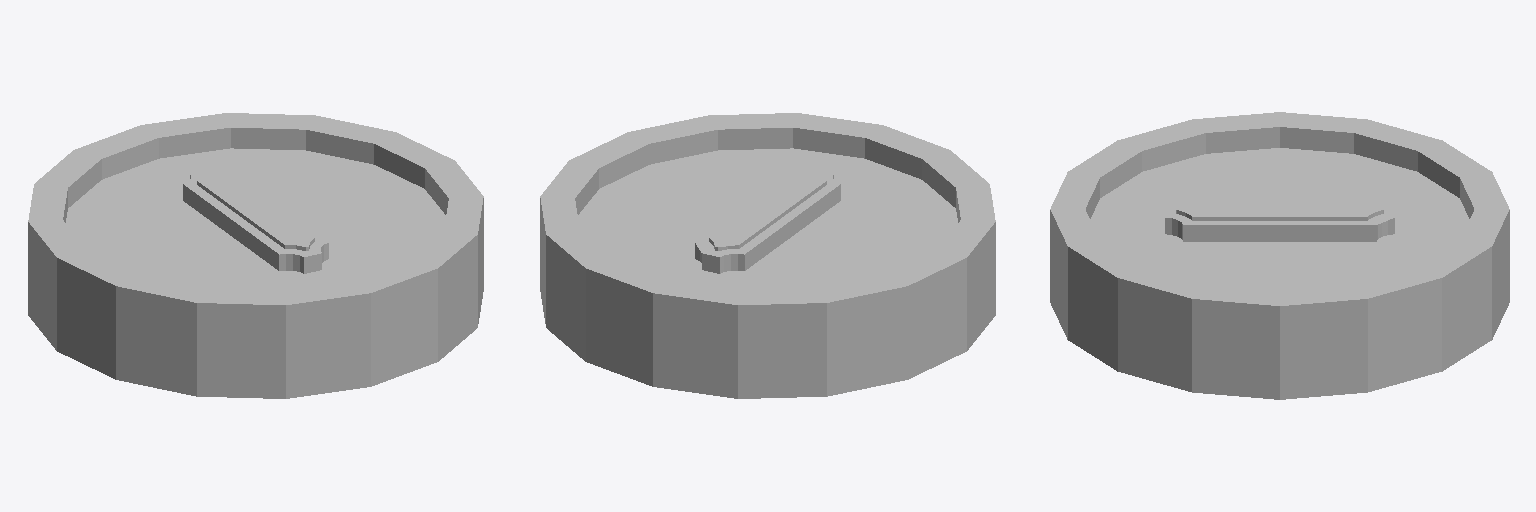
File: Coin_low_poly.obj
The picture shows the model from 3 angles: view 1: azimuth 30°, elevation 25°; view 2: azimuth 150°, elevation 25°; view 3: azimuth 270°, elevation 25°; orthographic projection.
Visible parts, largest first — view 1: Coin_Circle, cutout_Cube.001; view 2: Coin_Circle, cutout_Cube.001; view 3: Coin_Circle, cutout_Cube.001.
Part boxes in pixels (left/top/right/bottom): Coin_Circle: left=28, top=113, right=483, bottom=398; cutout_Cube.001: left=183, top=169, right=328, bottom=273; Coin_Circle: left=540, top=113, right=995, bottom=398; cutout_Cube.001: left=695, top=169, right=840, bottom=273; Coin_Circle: left=1050, top=112, right=1509, bottom=399; cutout_Cube.001: left=1165, top=201, right=1394, bottom=241.
Size of the model in its own units: 2 by 0.45 by 2.